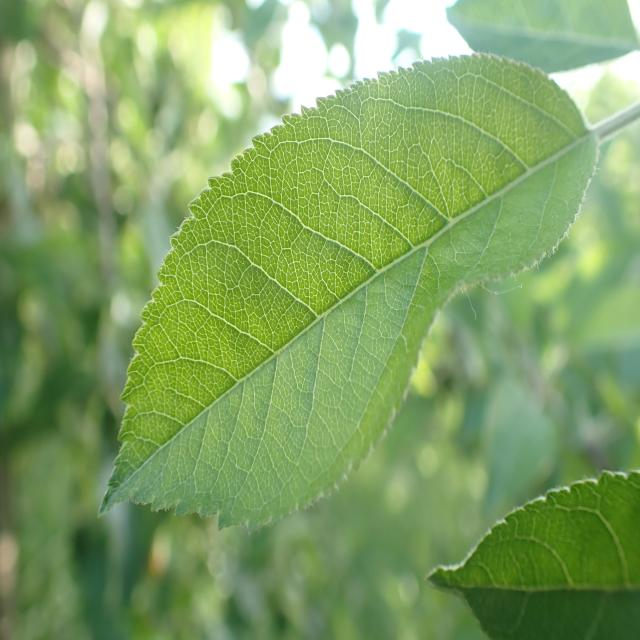healthy: (96, 51, 601, 533), (424, 468, 639, 640)
